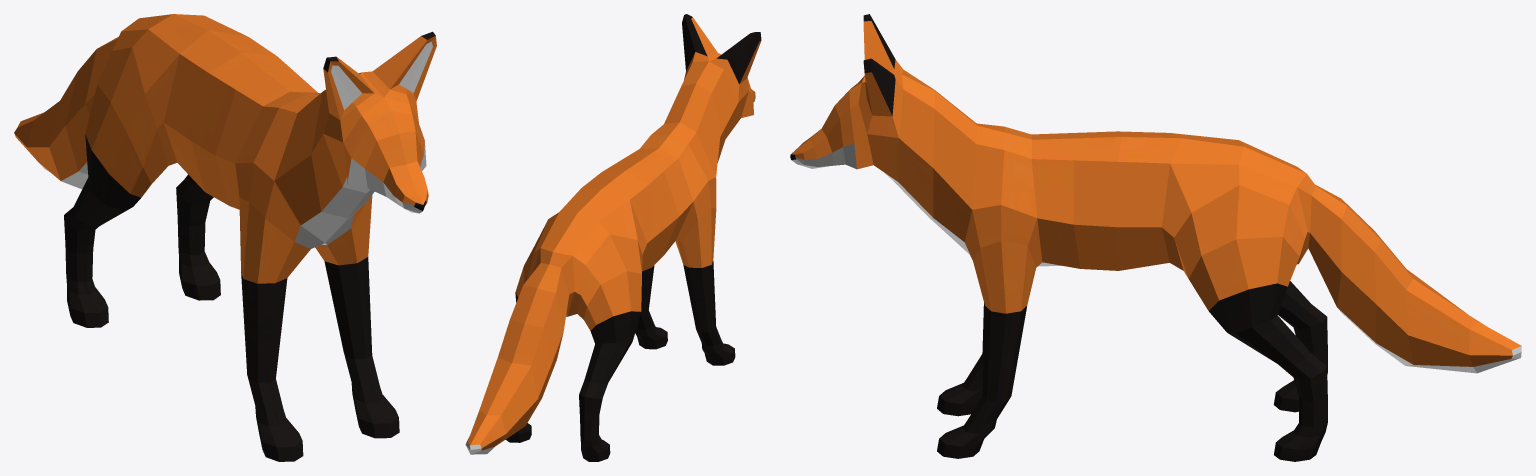
File: fox.glb
3 views of the same model, side by side, from view 1: azimuth 30°, elevation 25°; view 2: azimuth 150°, elevation 25°; view 3: azimuth 270°, elevation 25° (orthographic). The views are drawn at different scales.
Parts seen in each view (by area): view 1: 01foxFinal; view 2: 01foxFinal; view 3: 01foxFinal.
Boxes of the visible parts, left/top/right/bottom form: 01foxFinal: left=14, top=14, right=436, bottom=461; 01foxFinal: left=465, top=14, right=761, bottom=461; 01foxFinal: left=790, top=14, right=1521, bottom=461.
Bounding box in the file's own units: 0.4363 × 1.13 × 1.91.
Materials: 1 (1 with a texture image).
